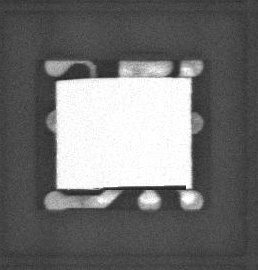DIE_BROKEN: (98, 181, 187, 191)
